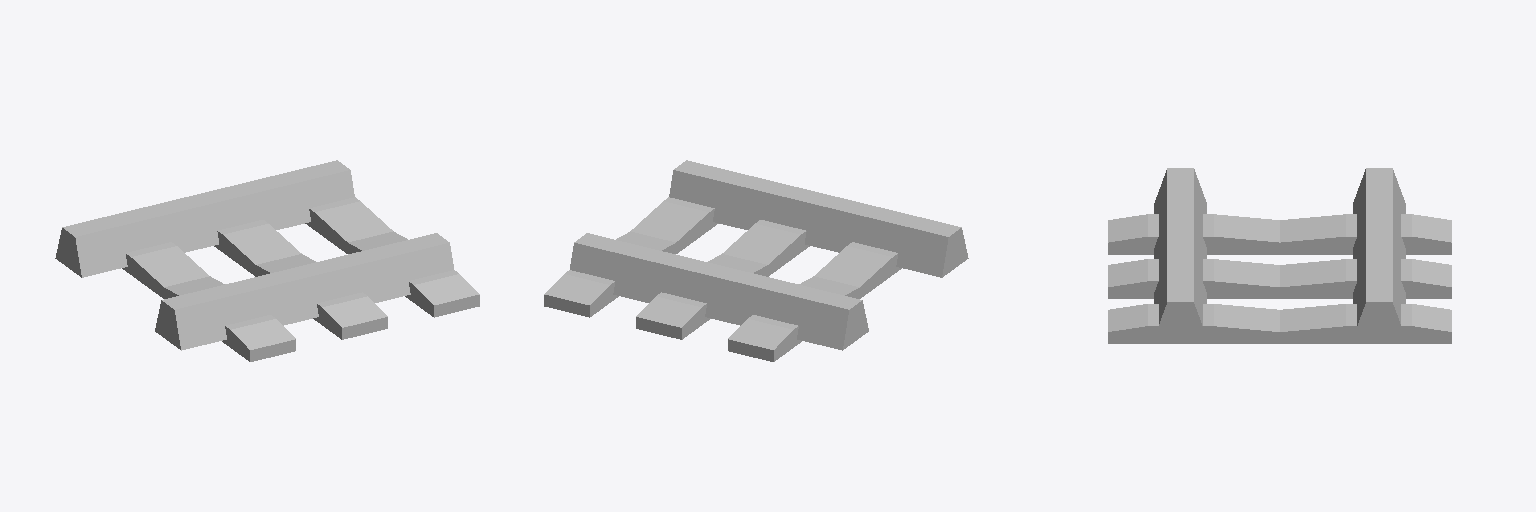
Rendered from rails.obj.
The picture shows the model from 3 angles: view 1: azimuth 30°, elevation 25°; view 2: azimuth 150°, elevation 25°; view 3: azimuth 270°, elevation 25°; orthographic projection.
Visible parts, largest first — view 1: cuboid; view 2: cuboid; view 3: cuboid.
Boxes of the visible parts, box(x1,y1,x2,y2) form: cuboid: box(55, 160, 479, 361); cuboid: box(544, 160, 968, 361); cuboid: box(1108, 168, 1451, 343).
Bounding box in the file's own units: 3 × 0.4375 × 3.25.